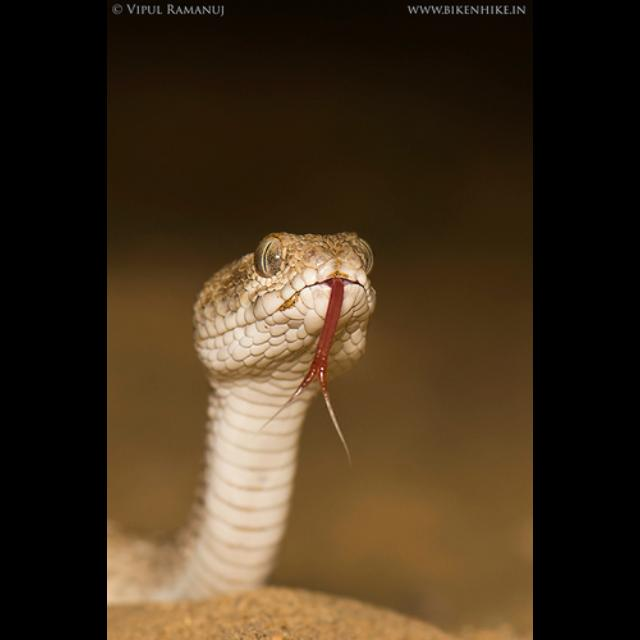snake: (108, 214, 386, 618)
